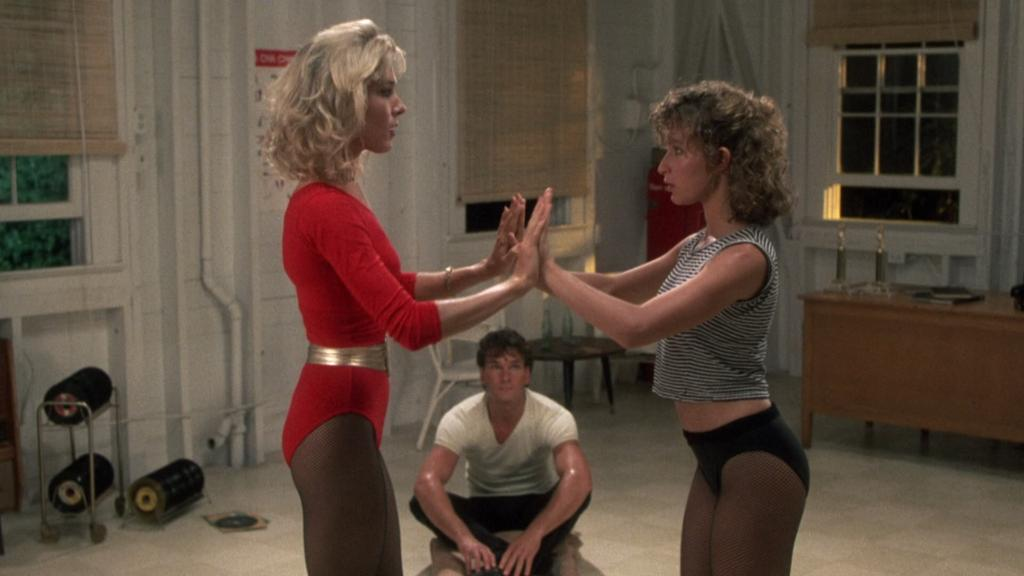face: (350, 57, 406, 154), (657, 120, 716, 203), (483, 344, 523, 402)
